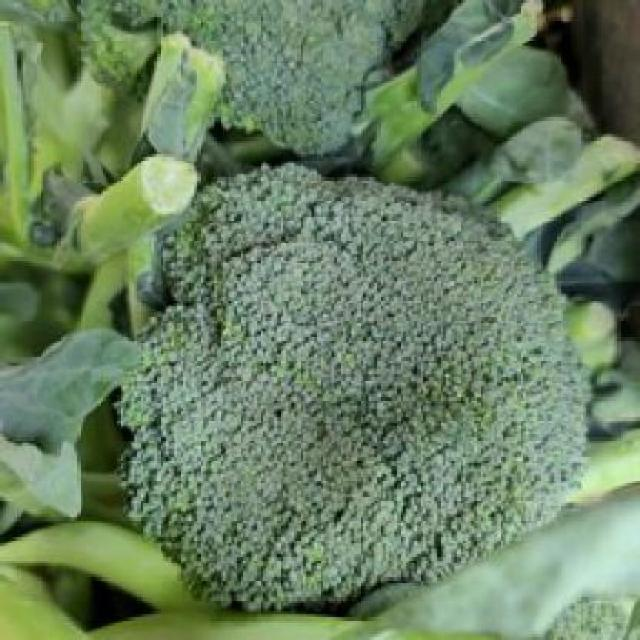broccoli: (74, 166, 617, 612)
